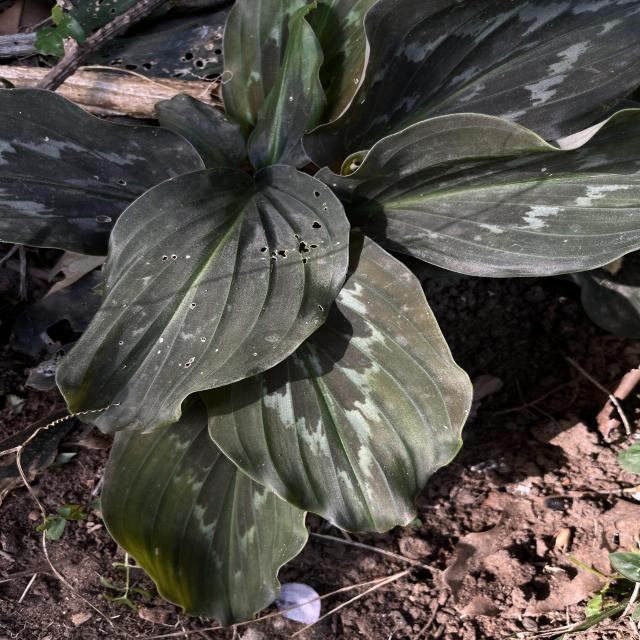Kaempferia galanga linn: (201, 224, 477, 537), (52, 160, 353, 437), (298, 1, 640, 170), (312, 105, 640, 280), (96, 430, 312, 630), (0, 85, 208, 258), (245, 0, 332, 171)
